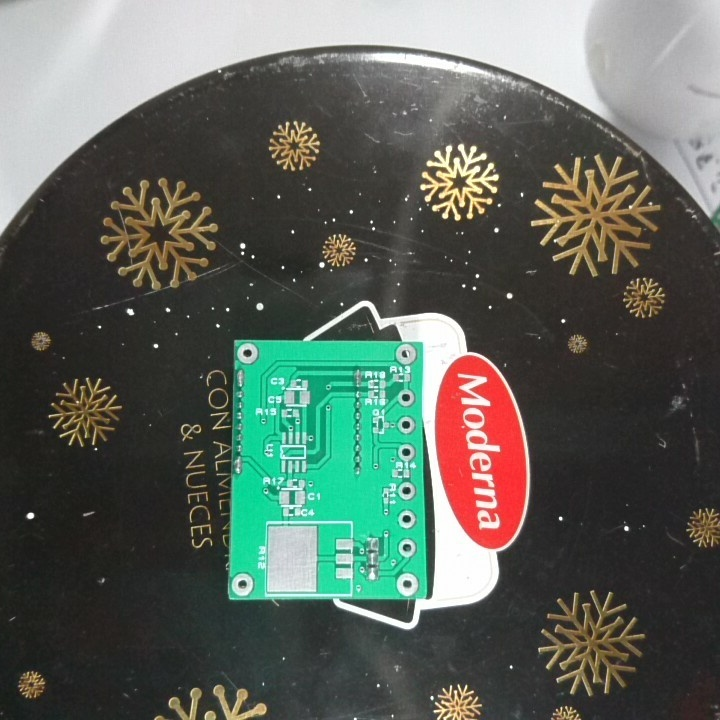F: (391, 340, 419, 369), (229, 571, 258, 598), (235, 340, 263, 366), (393, 569, 419, 596), (394, 415, 417, 437), (396, 535, 416, 558), (395, 442, 416, 463), (397, 480, 418, 501), (395, 509, 417, 529), (397, 386, 415, 409)
P: (351, 366, 364, 390), (233, 453, 243, 477), (235, 366, 245, 389)
